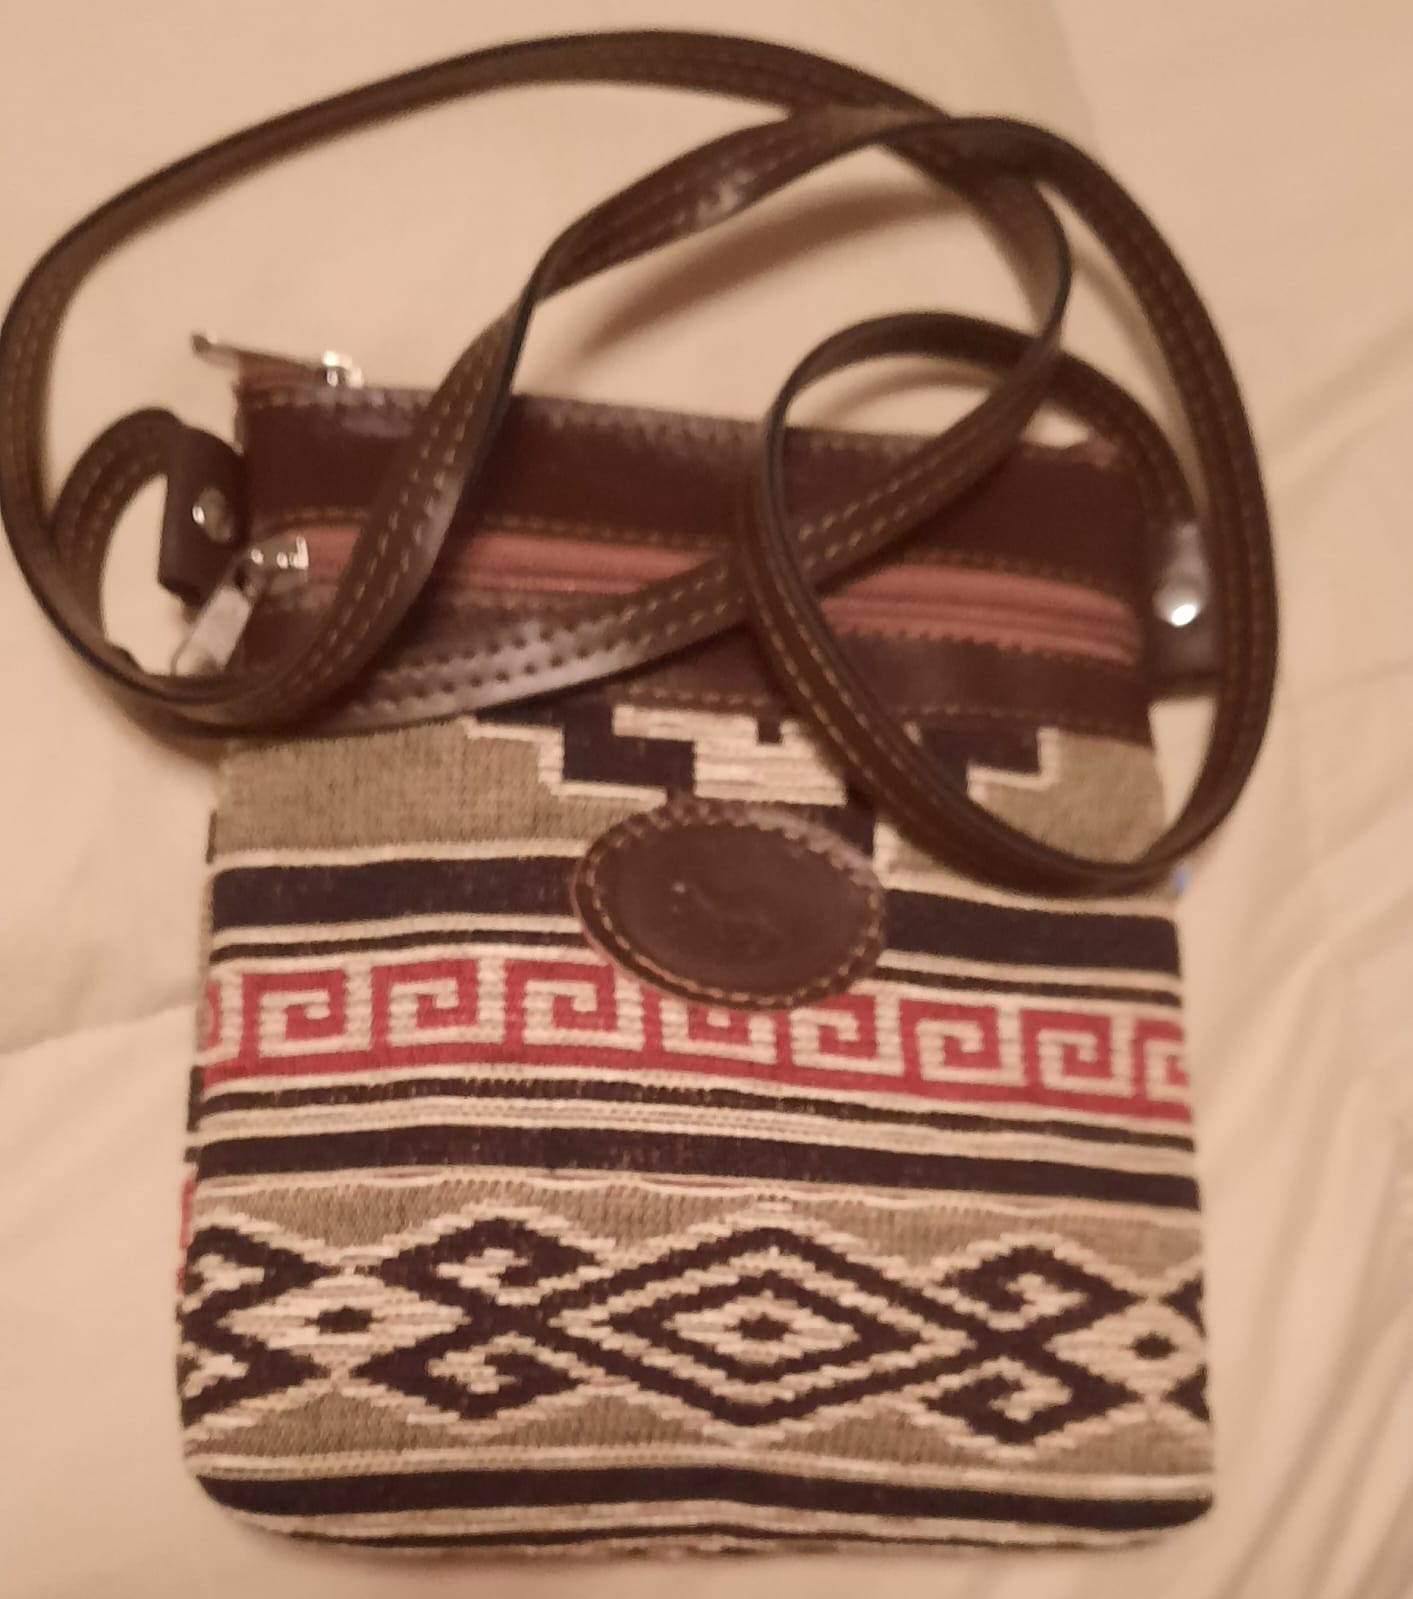cartera: (64, 111, 1309, 1599)
tela: (295, 542, 1017, 1379)
